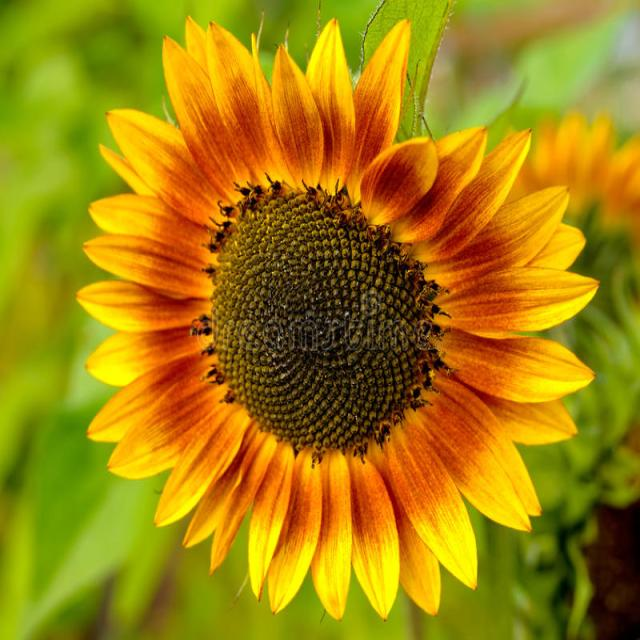sunflower: (61, 15, 616, 640)
